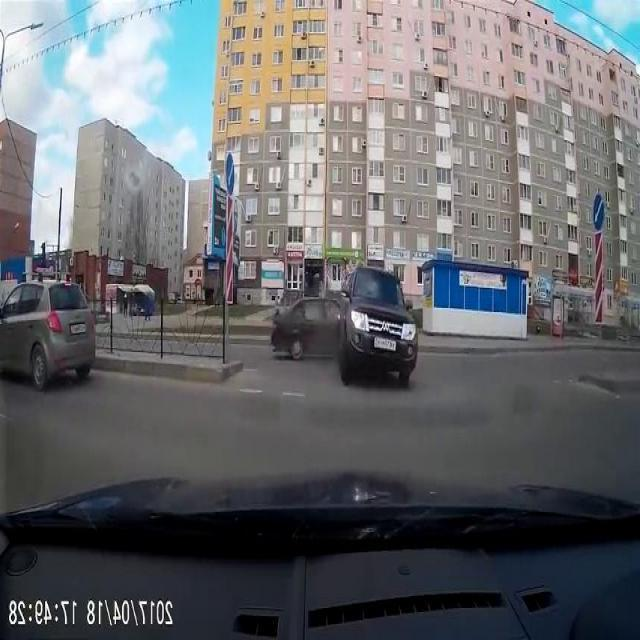multiple_accident: (253, 231, 424, 406)
